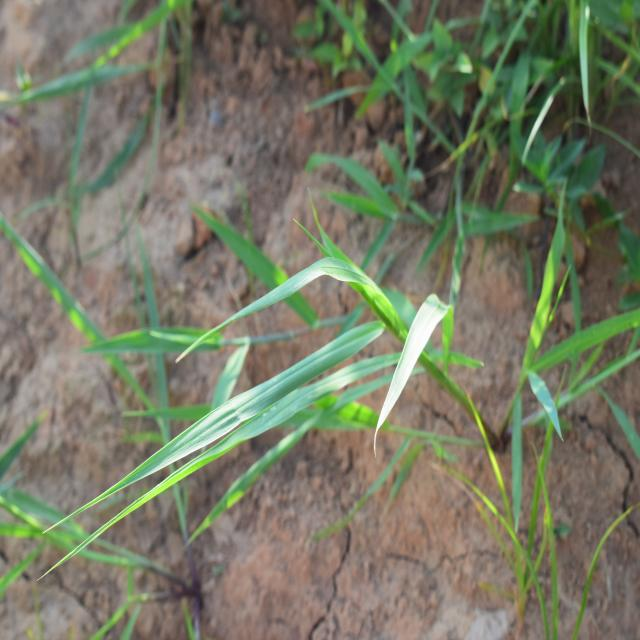green_foxtail: (177, 227, 482, 492)
